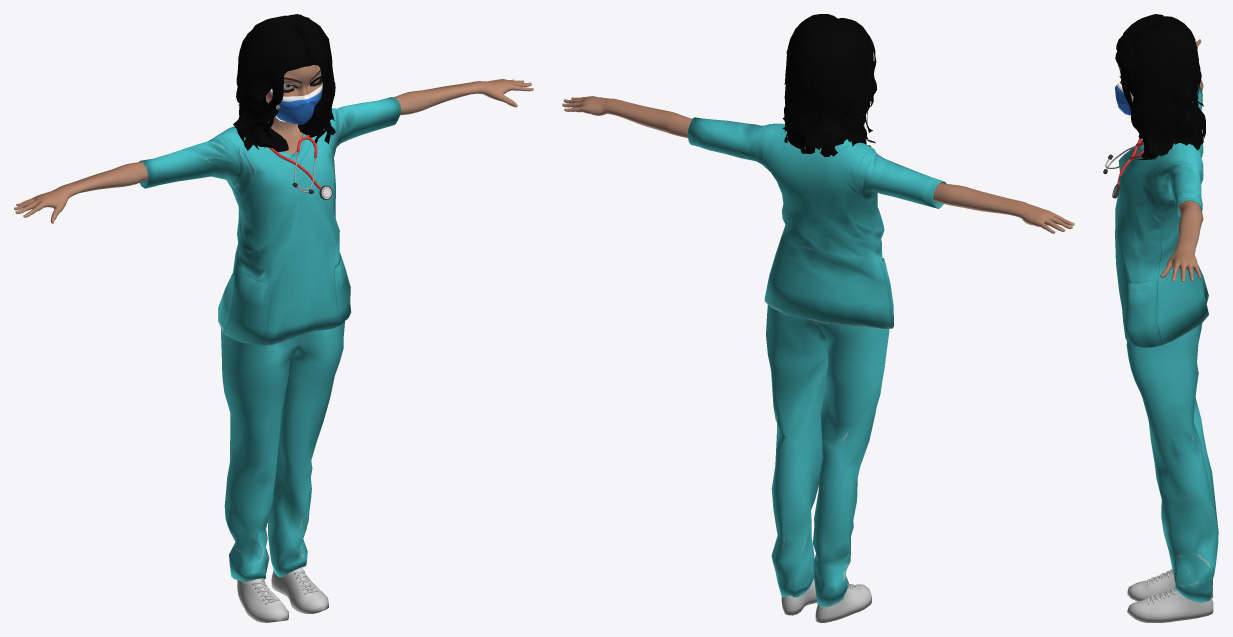
Rendered from Doctor.fbx.
3 views of the same model, side by side, from view 1: azimuth 30°, elevation 25°; view 2: azimuth 150°, elevation 25°; view 3: azimuth 270°, elevation 25° (orthographic).
Visible parts, largest first — view 1: Top, Bottom, Hair, Body, Shoes, Mask, Stethoscope; view 2: Bottom, Top, Hair, Body, Shoes; view 3: Top, Bottom, Hair, Shoes, Body, Stethoscope, Mask.
Part boxes in pixels (<box>): Top: <box>139,97,400,345</box>; Bottom: <box>221,321,344,581</box>; Hair: <box>233,14,335,152</box>; Body: <box>14,65,533,223</box>; Shoes: <box>237,567,328,622</box>; Mask: <box>269,82,322,124</box>; Stethoscope: <box>268,135,332,199</box>; Bottom: <box>766,305,889,607</box>; Top: <box>687,117,946,328</box>; Hair: <box>782,14,876,156</box>; Body: <box>562,96,1074,233</box>; Shoes: <box>781,579,871,622</box>; Top: <box>1115,85,1208,347</box>; Bottom: <box>1126,323,1218,602</box>; Hair: <box>1115,14,1205,159</box>; Shoes: <box>1127,569,1213,622</box>; Body: <box>1118,39,1203,282</box>; Stethoscope: <box>1103,138,1143,198</box>; Mask: <box>1115,81,1133,115</box>.
Size of the model in its own units: 154 by 168 by 29.95.
